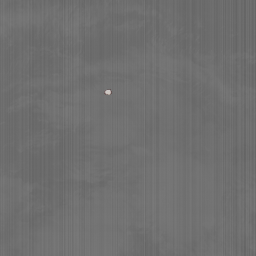Target: (103, 89, 113, 97)
